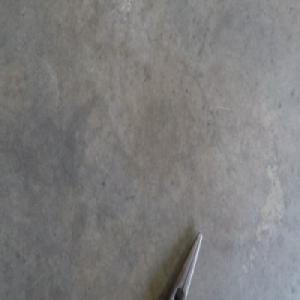Pliers: (168, 231, 202, 298)
